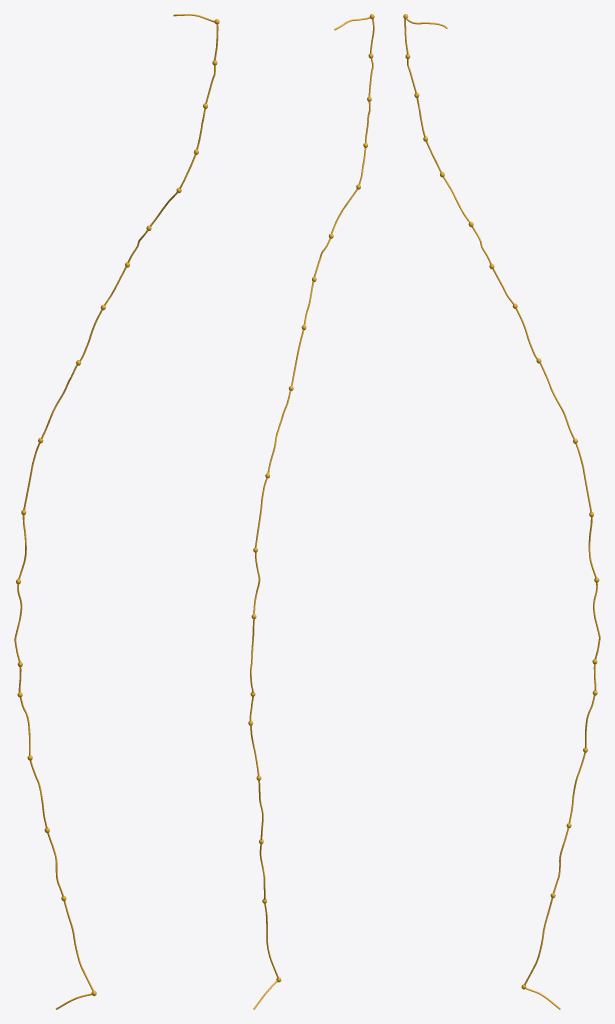
File: nervoso-sympathetic-trunk-l.glb
3 views of the same model, side by side, from view 1: azimuth 90°, elevation 25°; view 2: azimuth 150°, elevation 25°; view 3: azimuth 270°, elevation 25° (orthographic). The views are drawn at different scales.
Visible parts, largest first — view 1: Sympathetic trunk.l; view 2: Sympathetic trunk.l, Ganglia of sympathetic trunk.l; view 3: Sympathetic trunk.l.
Part boxes in pixels (x1,y1,x2,y2): Sympathetic trunk.l: (14, 14, 218, 1009); Sympathetic trunk.l: (249, 17, 374, 1009); Ganglia of sympathetic trunk.l: (248, 14, 374, 982); Sympathetic trunk.l: (404, 18, 600, 1009).
Bounding box in the file's own units: 0.0204 × 0.3717 × 0.0682.
